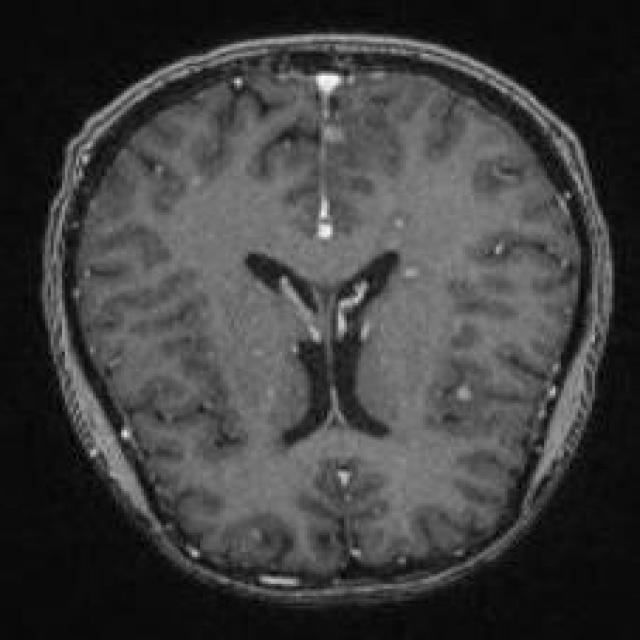notumor: (42, 37, 612, 601)
